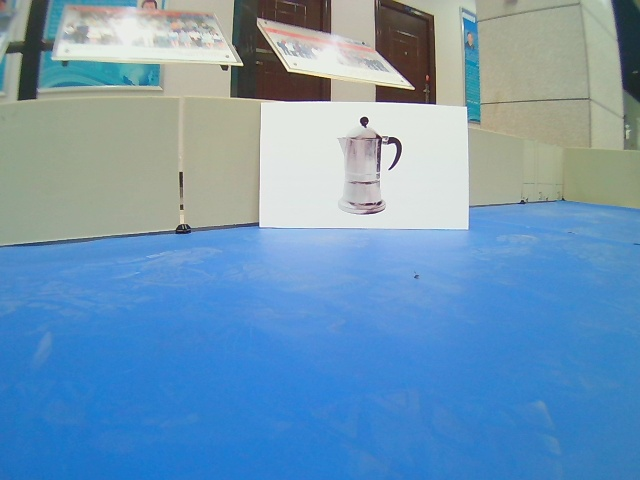dish: (258, 101, 471, 234)
